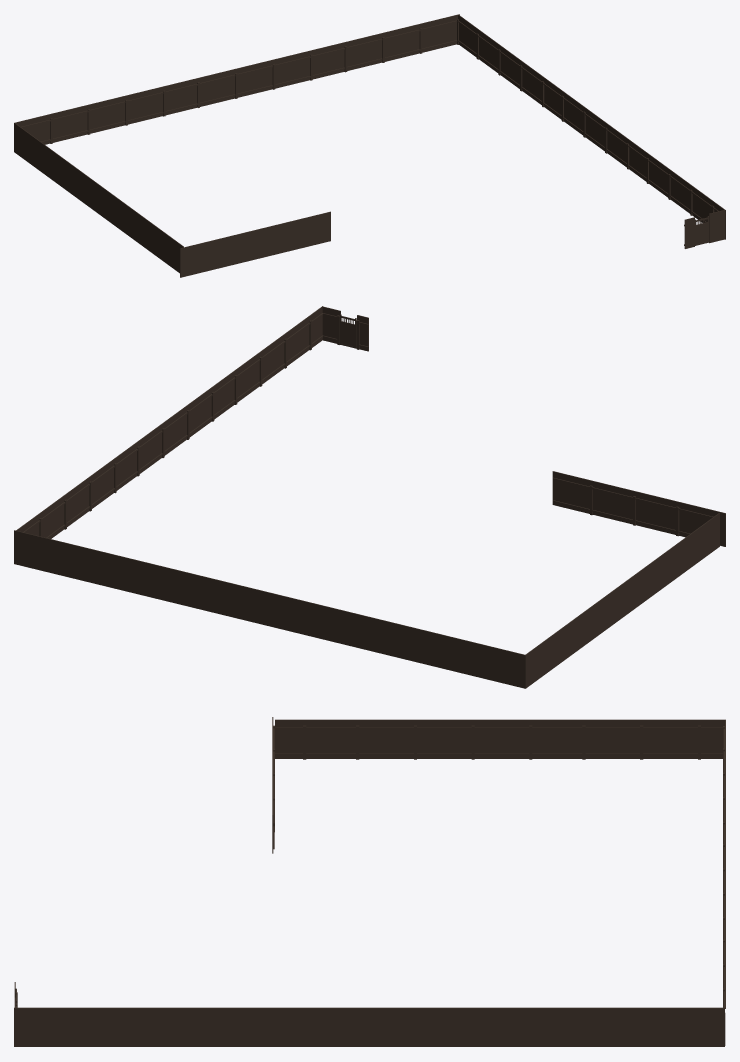
Rendered from Subsurfed_Porch.009.obj.
3 views of the same model, one above another, from view 1: azimuth 30°, elevation 25°; view 2: azimuth 150°, elevation 25°; view 3: azimuth 270°, elevation 25° (orthographic). The views are drawn at different scales.
Visible parts, largest first — view 1: Subsurfed_Porch.009_Cube.001; view 2: Subsurfed_Porch.009_Cube.001; view 3: Subsurfed_Porch.009_Cube.001.
Part boxes in pixels (bbox=[...]): Subsurfed_Porch.009_Cube.001: bbox=[14, 14, 725, 277]; Subsurfed_Porch.009_Cube.001: bbox=[14, 306, 725, 688]; Subsurfed_Porch.009_Cube.001: bbox=[14, 717, 725, 1046].
Size of the model in its own units: 32.18 by 2 by 33.16.
